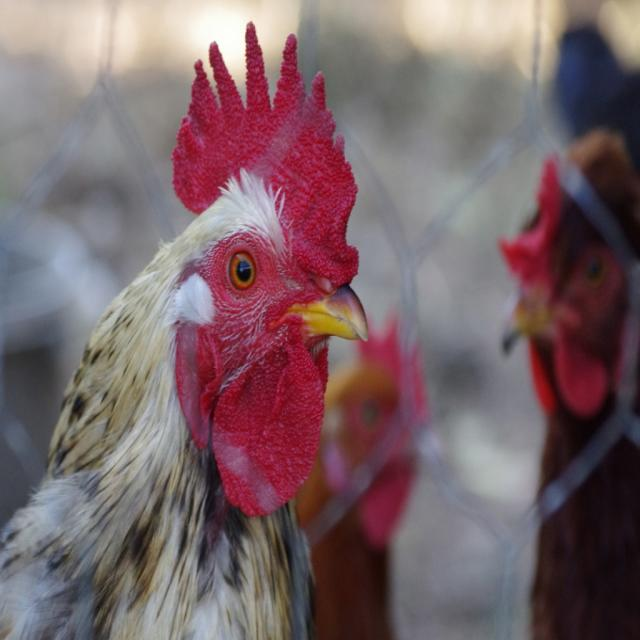Chicken: (0, 8, 368, 639)
